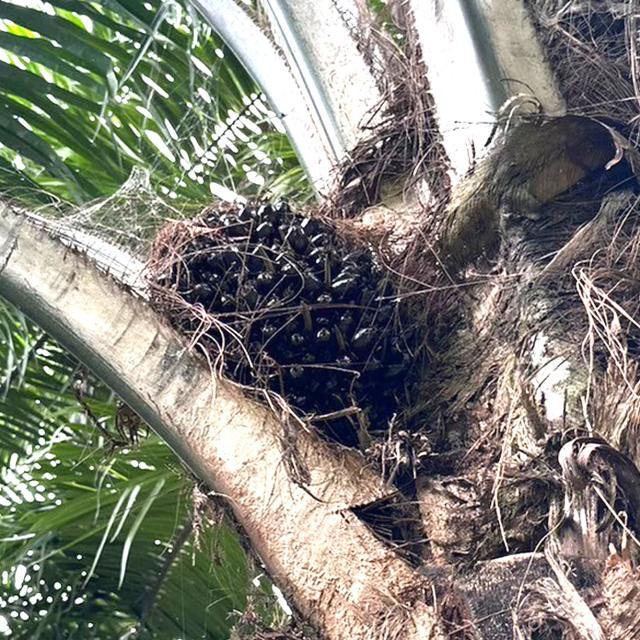unripe: (153, 188, 448, 446)
